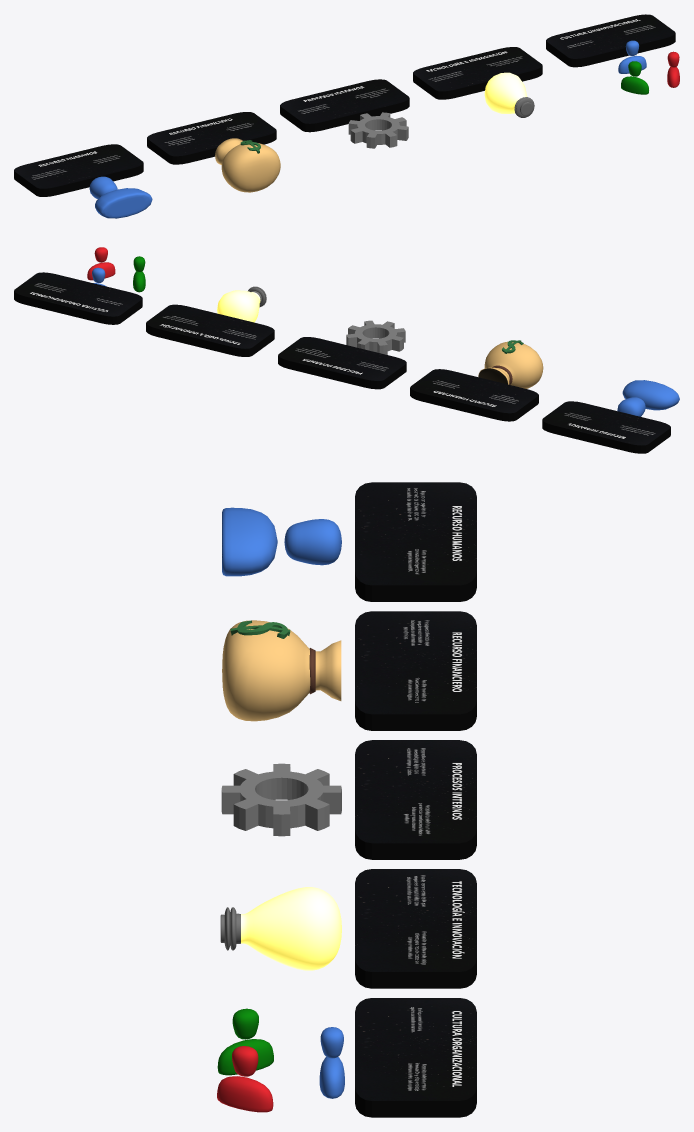
File: segundo.glb
The picture shows the model from 3 angles, top to bottom: view 1: azimuth 30°, elevation 25°; view 2: azimuth 150°, elevation 25°; view 3: azimuth 270°, elevation 25°; orthographic projection. The views are drawn at different scales.
Parts seen in each view (by area): view 1: Cultural; view 2: Cultural; view 3: Cultural.
Boxes of the visible parts, box(x1,y1,x2,y2) form: Cultural: box(14, 14, 679, 218); Cultural: box(14, 247, 679, 453); Cultural: box(217, 482, 476, 1117).
Bounding box in the file's own units: 12 × 0.8086 × 2.13.
21 materials, 5 textured.
